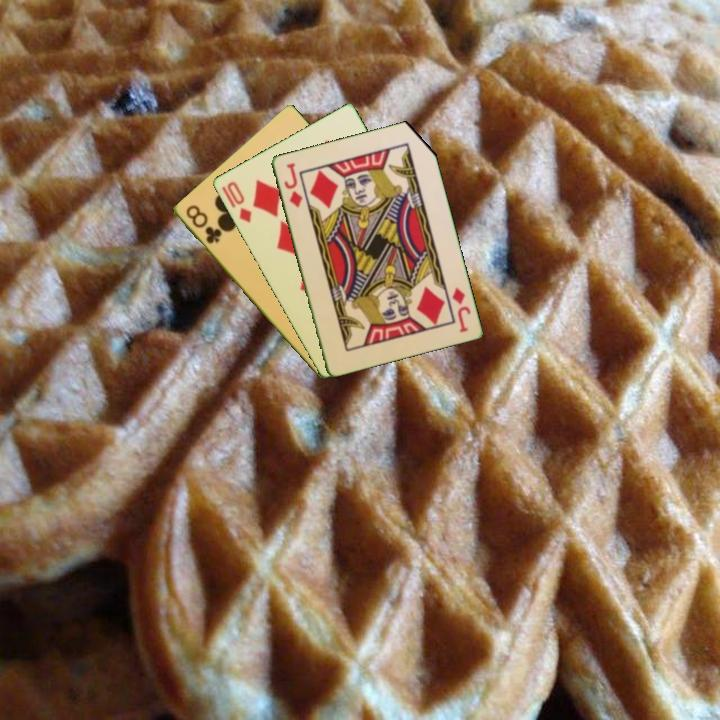10d: (223, 177, 254, 225)
8c: (182, 201, 224, 247)
Jd: (448, 283, 473, 335), (280, 159, 305, 210)
